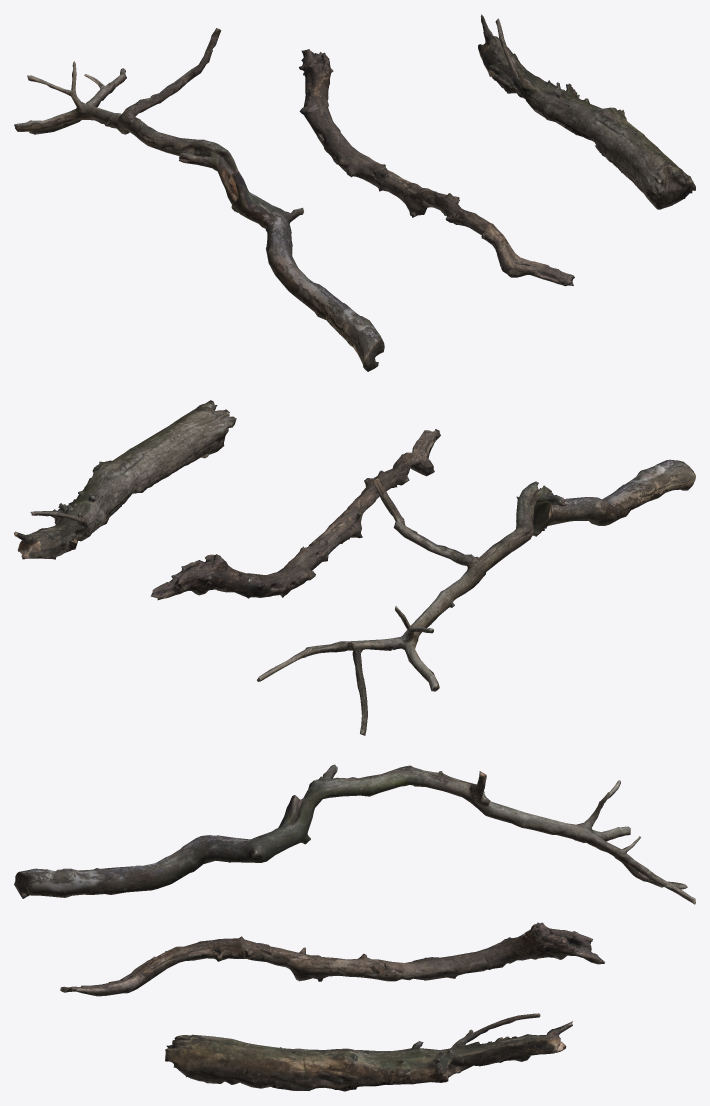
File: dry_branches_medium_01.gltf
3 renders of one model, top to bottom at view 1: azimuth 30°, elevation 25°; view 2: azimuth 150°, elevation 25°; view 3: azimuth 270°, elevation 25°, orthographic. The views are drawn at different scales.
Visible parts, largest first — view 1: dry_branches_medium_01_a, dry_branches_medium_01_c, dry_branches_medium_01_b; view 2: dry_branches_medium_01_a, dry_branches_medium_01_c, dry_branches_medium_01_b; view 3: dry_branches_medium_01_a, dry_branches_medium_01_c, dry_branches_medium_01_b.
Part boxes in pixels (x1=…): dry_branches_medium_01_a: x1=14, y1=28, x2=384, y2=371; dry_branches_medium_01_c: x1=478, y1=14, x2=695, y2=209; dry_branches_medium_01_b: x1=299, y1=49, x2=574, y2=286; dry_branches_medium_01_a: x1=257, y1=459, x2=695, y2=735; dry_branches_medium_01_c: x1=14, y1=400, x2=236, y2=559; dry_branches_medium_01_b: x1=150, y1=429, x2=440, y2=600; dry_branches_medium_01_a: x1=14, y1=764, x2=695, y2=904; dry_branches_medium_01_c: x1=165, y1=1013, x2=572, y2=1091; dry_branches_medium_01_b: x1=60, y1=922, x2=604, y2=996.
Bounding box in the file's own units: 1.06 × 0.341 × 1.3.
1 material, 1 textured.
